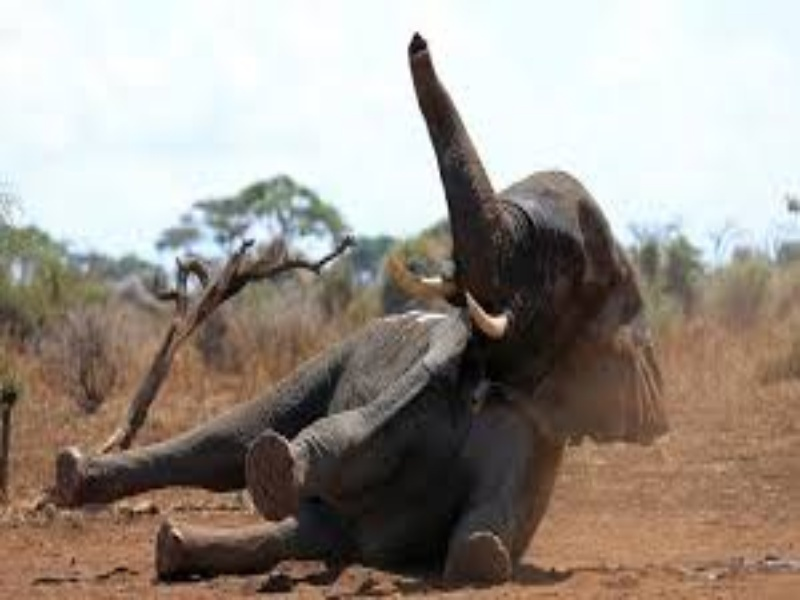elephant: (24, 12, 724, 600)
